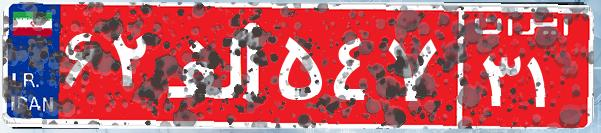1: (525, 38, 570, 115)
2: (110, 28, 158, 105)
3: (475, 38, 525, 113)
4: (330, 28, 385, 110)
5: (273, 28, 330, 110)
6: (57, 26, 110, 107)
7: (385, 28, 445, 110)
الف: (158, 15, 273, 115)
